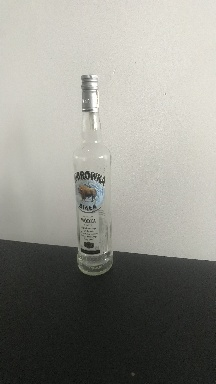butelka: (70, 70, 114, 278)
